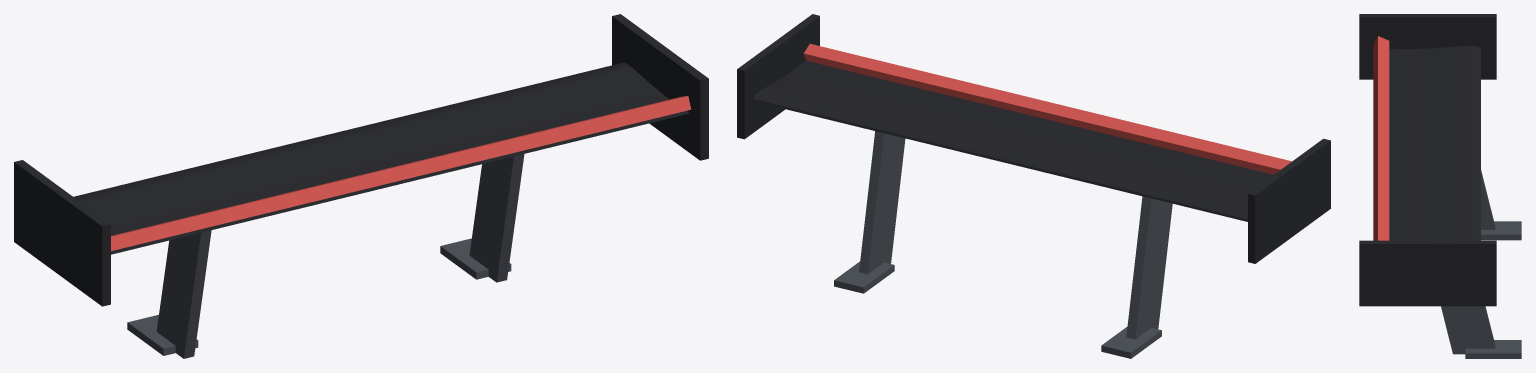
Rendered from spoiler_gt.glb.
3 views of the same model, side by side, from view 1: azimuth 30°, elevation 25°; view 2: azimuth 150°, elevation 25°; view 3: azimuth 270°, elevation 25° (orthographic). The views are drawn at different scales.
Visible parts, largest first — view 1: spoiler_gt__mesh; view 2: spoiler_gt__mesh; view 3: spoiler_gt__mesh.
Boxes of the visible parts, left/top/right/bottom form: spoiler_gt__mesh: left=14, top=14, right=708, bottom=358; spoiler_gt__mesh: left=737, top=14, right=1330, bottom=358; spoiler_gt__mesh: left=1359, top=14, right=1521, bottom=358.
Bounding box in the file's own units: 1.75 × 0.58 × 0.52.
2 materials, 1 textured.
